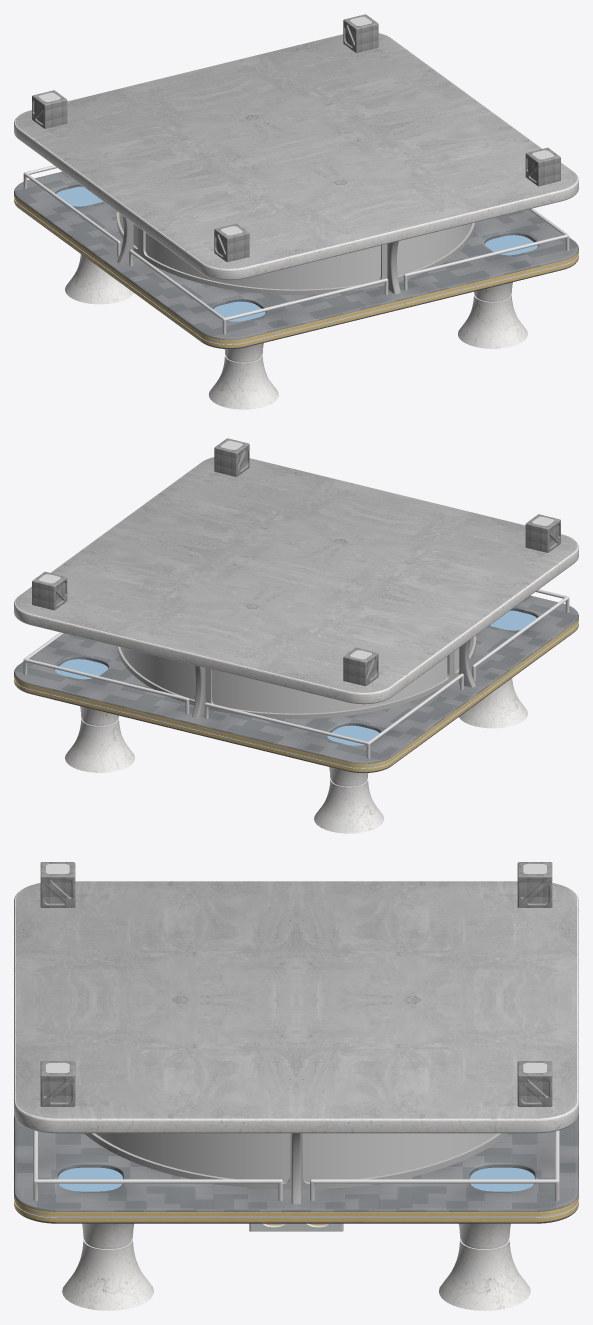
Rendered from Sci-Fi Building 1 Packed.fbx.
The picture shows the model from 3 angles, top to bottom: view 1: azimuth 30°, elevation 25°; view 2: azimuth 150°, elevation 25°; view 3: azimuth 270°, elevation 25°; orthographic projection. The views are drawn at different scales.
Visible parts, largest first — view 1: Cylinder; view 2: Cylinder; view 3: Cylinder.
Boxes of the visible parts, x1,y1,x2,y2 form: Cylinder: (14,14,578,409); Cylinder: (14,438,578,833); Cylinder: (14,862,578,1310).
Size of the model in its own units: 600 by 285 by 600.
